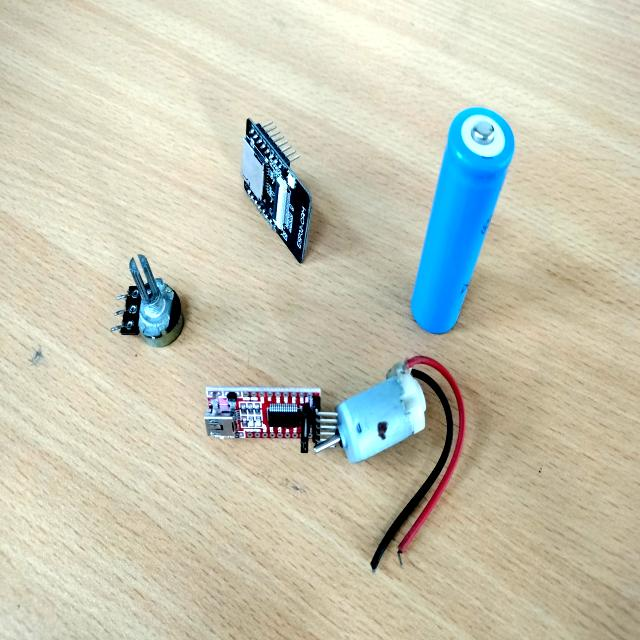3-3-Volt-Battery: (405, 103, 516, 340)
DC-Motor: (311, 357, 429, 472)
ESP32-CAM: (236, 108, 320, 271)
FT-232-USB-Serial-Module: (198, 376, 342, 460)
Taper-Potentiometer: (109, 246, 190, 356)
